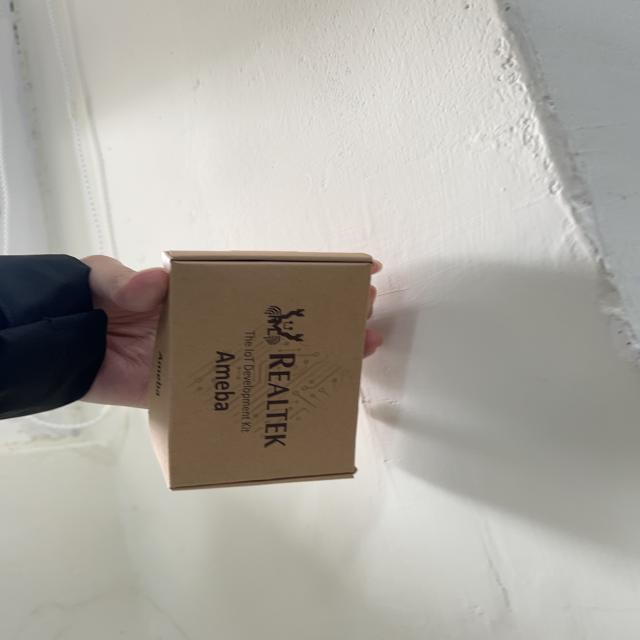box: (114, 225, 391, 510)
